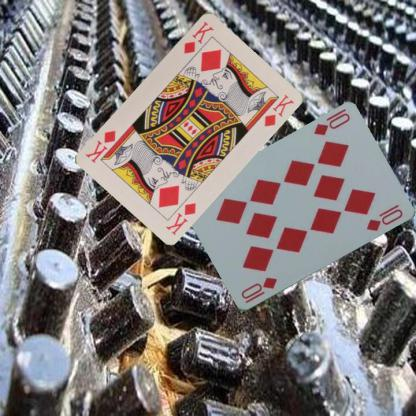10d: (311, 107, 351, 138), (239, 275, 278, 305)
Kd: (163, 200, 198, 236), (181, 18, 215, 55)
